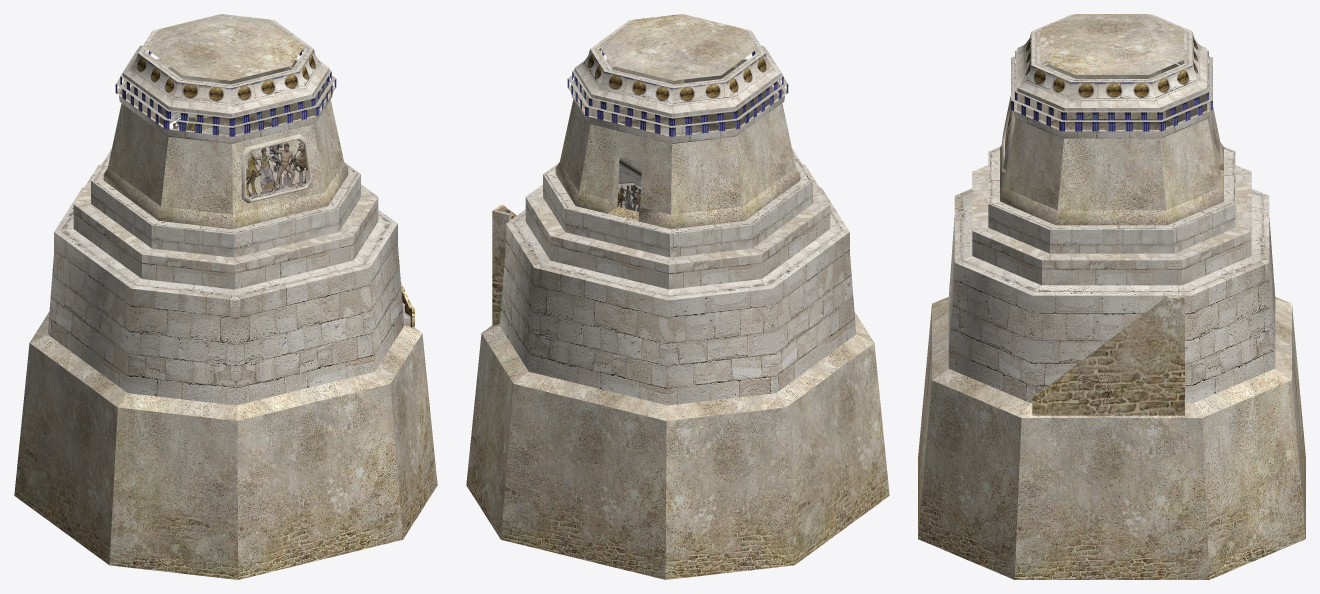
File: colossus_pedestal.dae
3 renders of one model, left to right at view 1: azimuth 30°, elevation 25°; view 2: azimuth 150°, elevation 25°; view 3: azimuth 270°, elevation 25°, orthographic. The views are drawn at different scales.
Visible parts, largest first — view 1: final colossus lp.004; view 2: final colossus lp.004; view 3: final colossus lp.004.
Part boxes in pixels (x1,y1,x2,y2): final colossus lp.004: [14, 14, 437, 579]; final colossus lp.004: [466, 14, 889, 579]; final colossus lp.004: [918, 14, 1305, 579].
Size of the model in its own units: 18.49 by 18.49 by 24.02.
